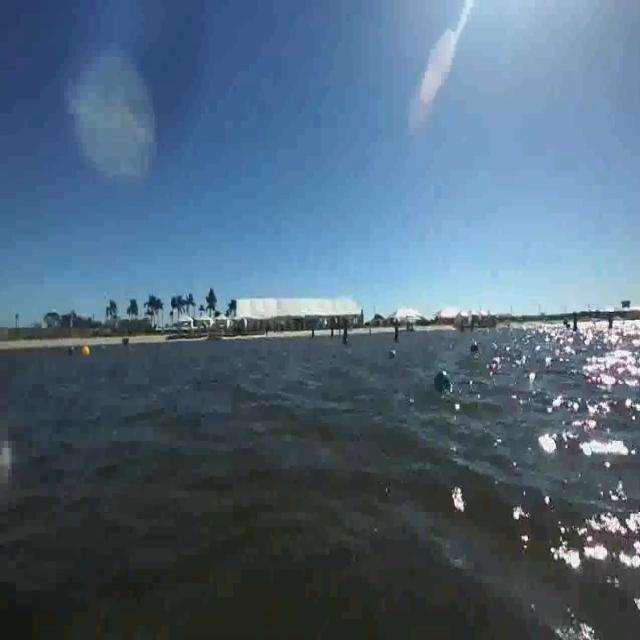yellow-buoy: (82, 343, 95, 360)
